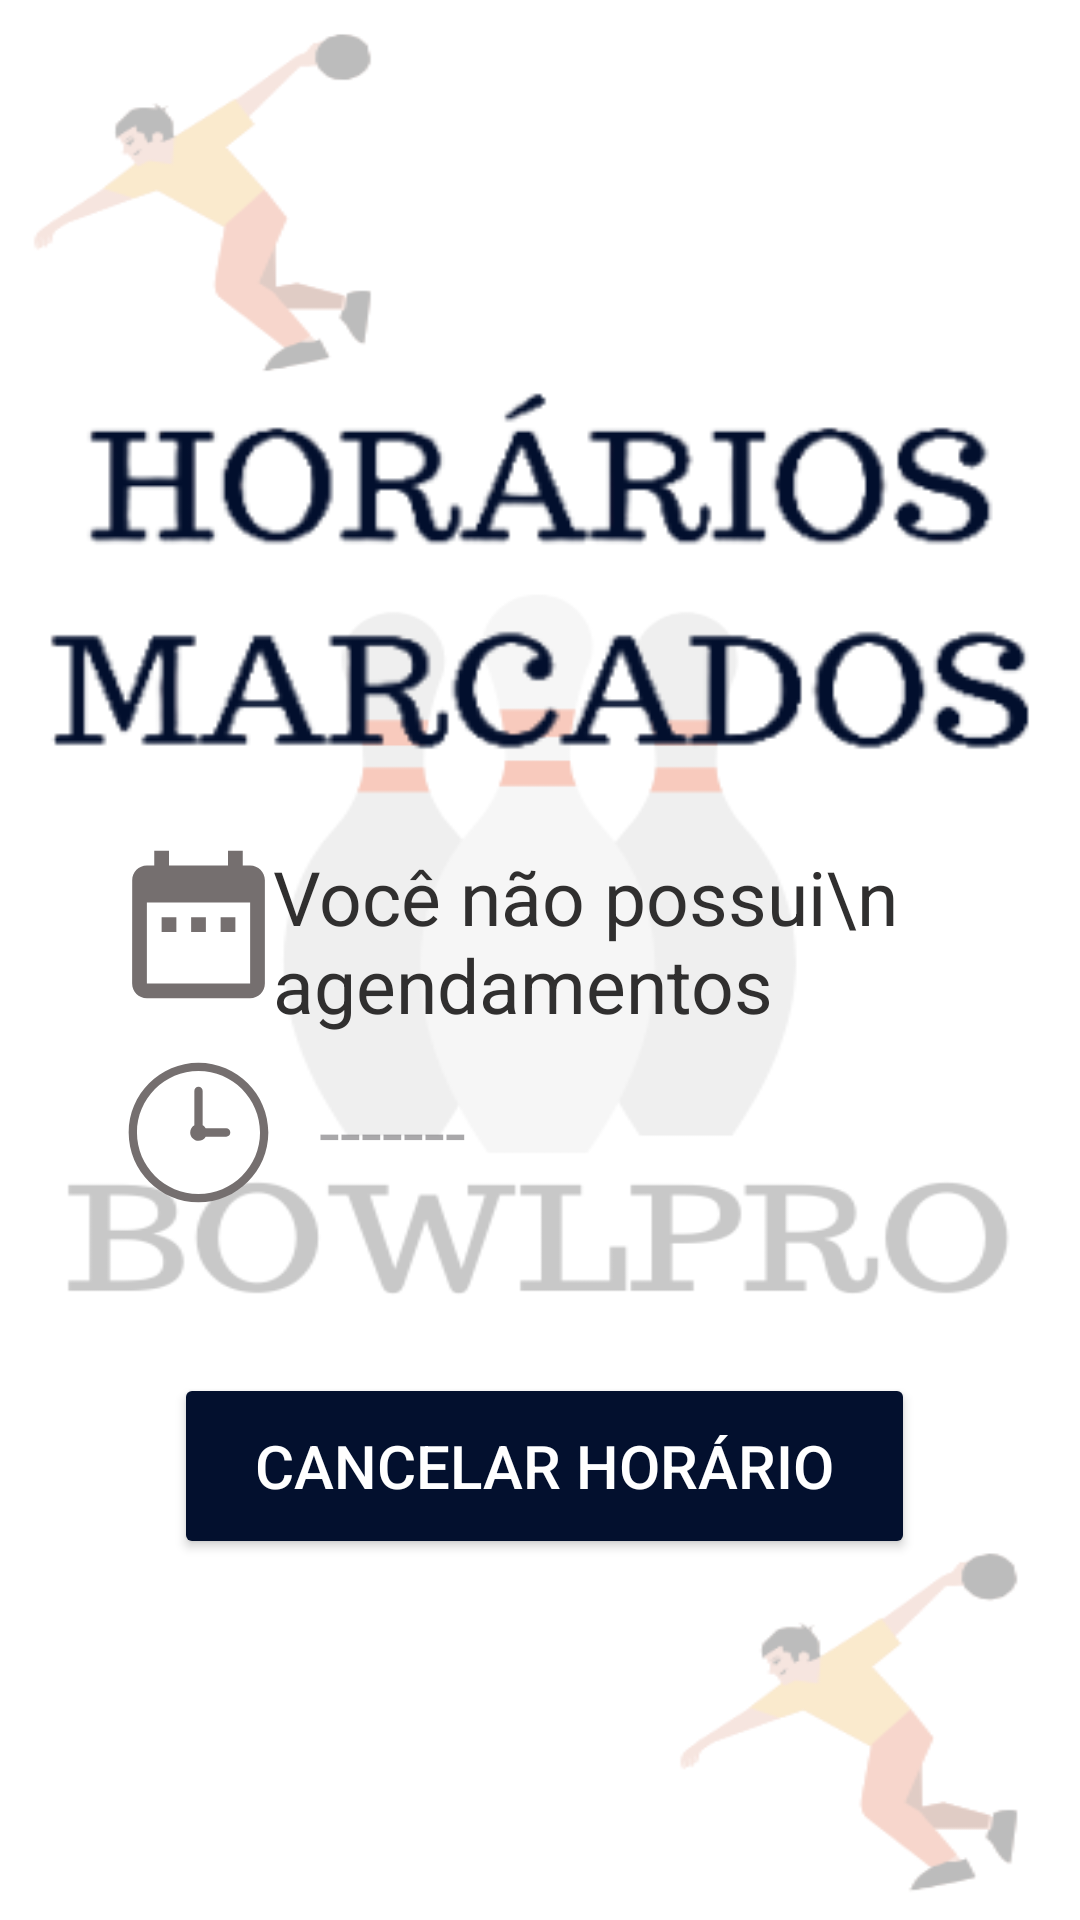

Named icons in this screenshot (1080px×1920px) and their bounding boxes, (x1, y1, x2, y2):
date: (132, 850, 265, 999)
iconrelogio: (110, 1062, 287, 1225)
